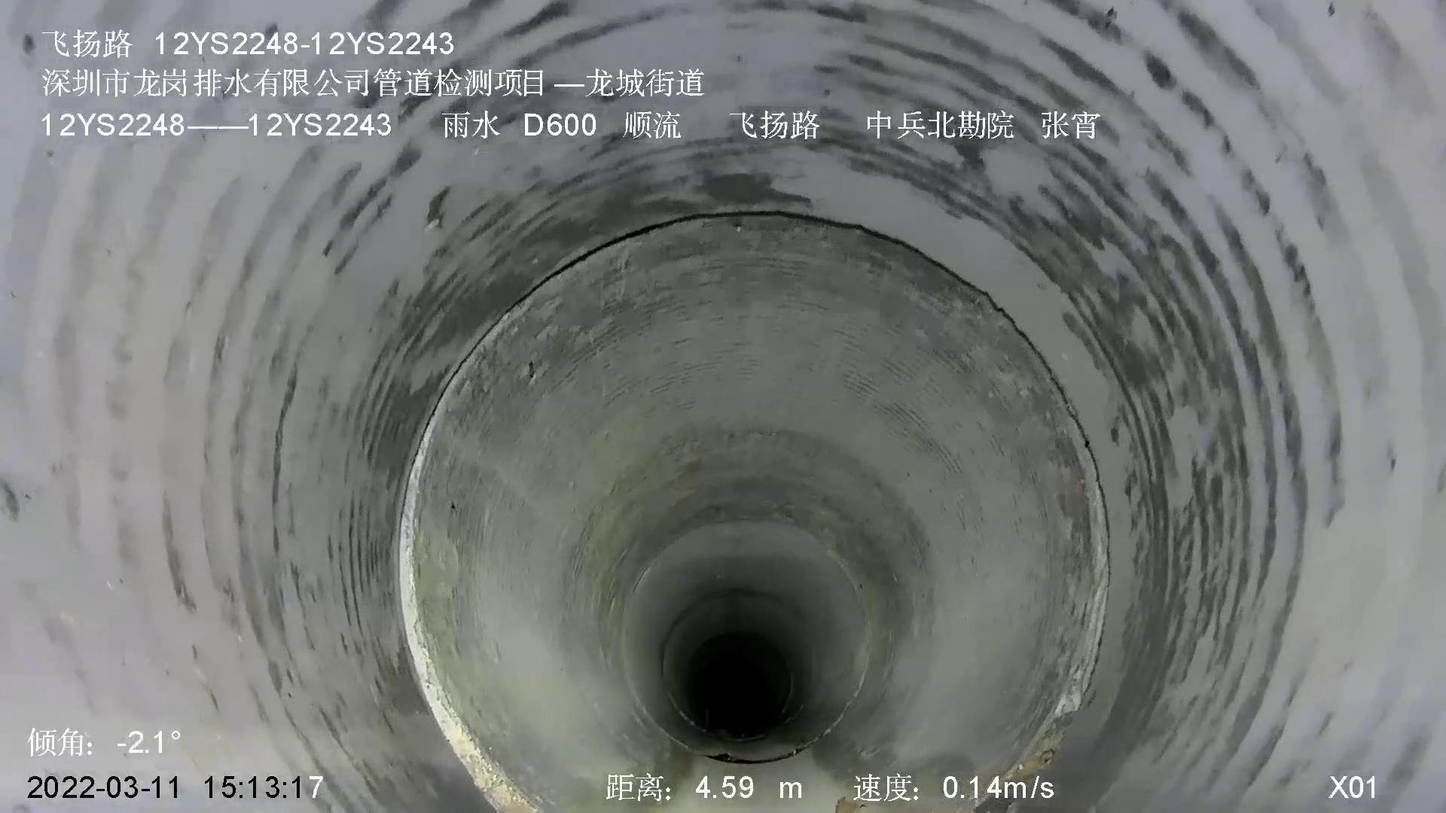CKTJ: (397, 217, 719, 812), (793, 217, 1110, 779)
